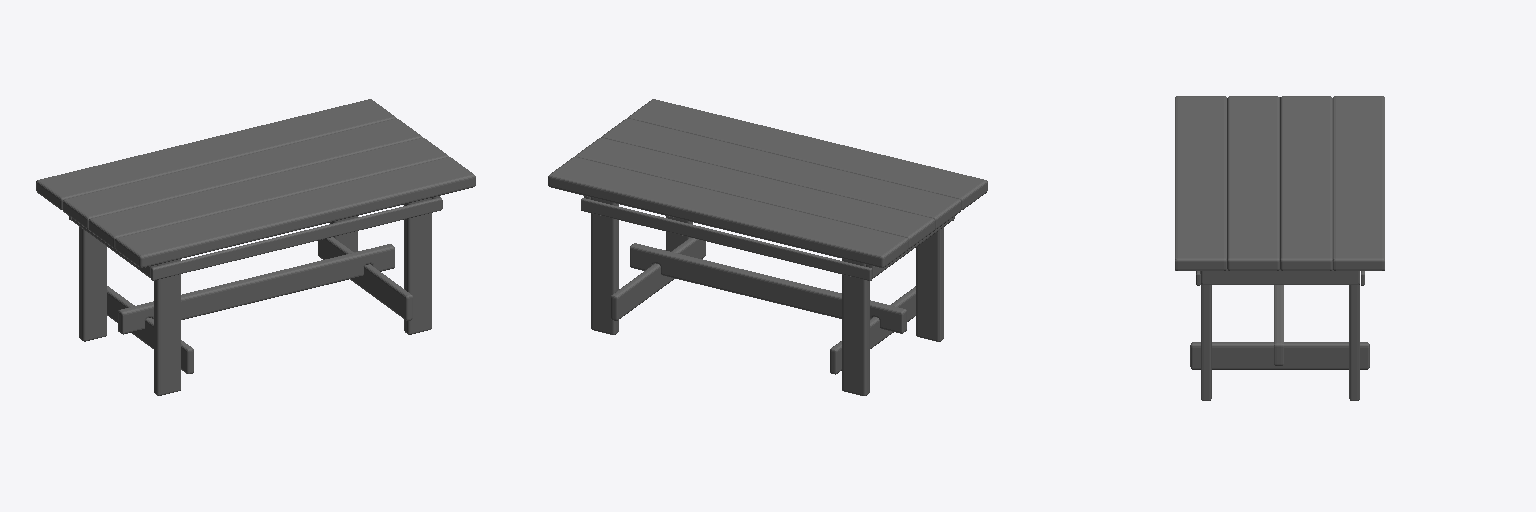
File: table.obj
3 renders of one model, left to right at view 1: azimuth 30°, elevation 25°; view 2: azimuth 150°, elevation 25°; view 3: azimuth 270°, elevation 25°, orthographic.
Parts seen in each view (by area): view 1: Box004; view 2: Box004; view 3: Box004.
Part boxes in pixels (x1,y1,x2,y2): Box004: (36, 99, 475, 395); Box004: (548, 99, 987, 395); Box004: (1175, 96, 1384, 400).
Size of the model in its own units: 459 by 205 by 249.